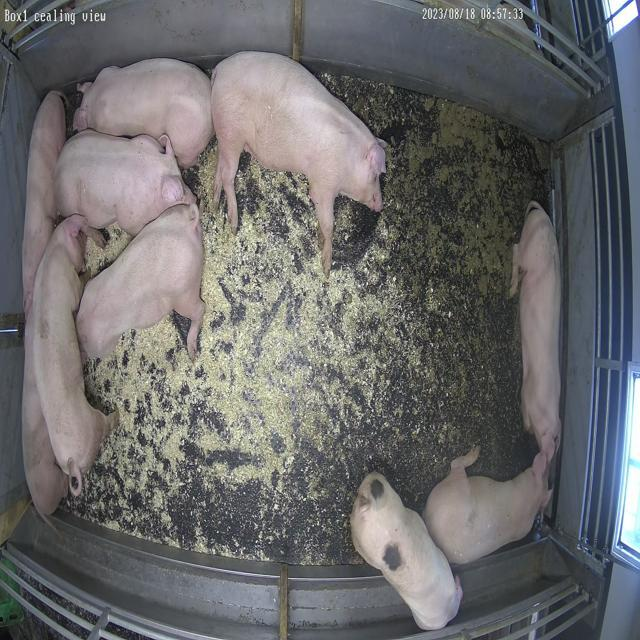Dirt: (383, 88, 549, 504)
Pig: (212, 53, 386, 274), (31, 215, 110, 496), (76, 204, 204, 358), (351, 474, 464, 632), (74, 58, 214, 168), (54, 129, 195, 236), (424, 449, 552, 566), (514, 201, 563, 464), (21, 90, 65, 316), (21, 317, 68, 516)
